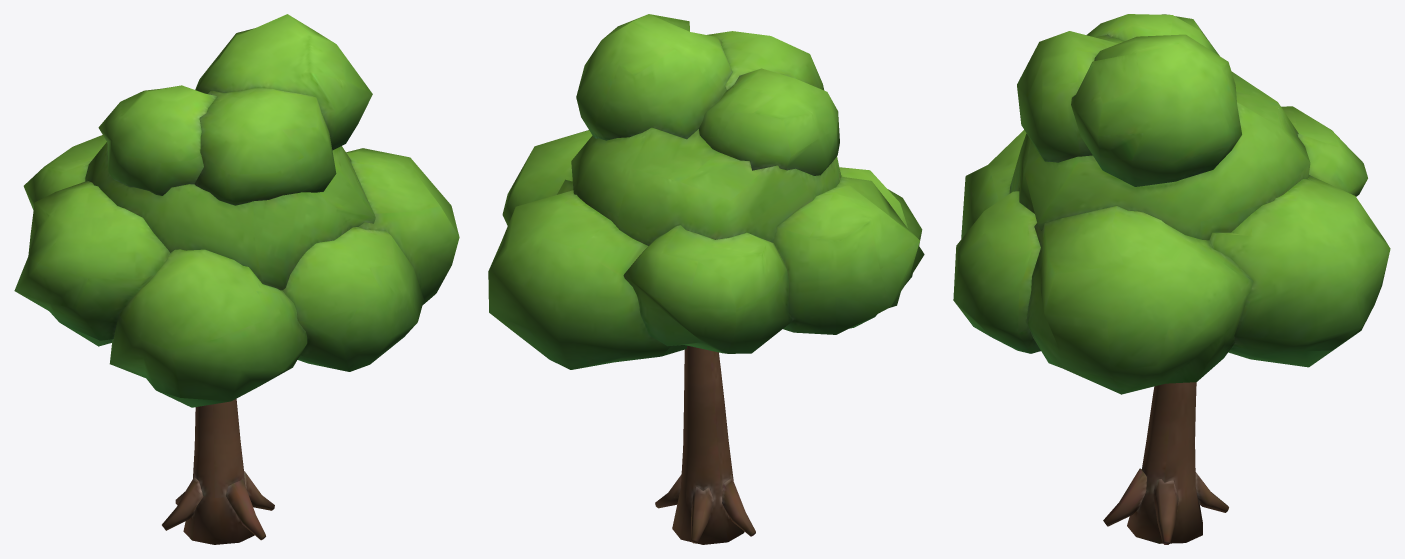
The model's file is oak.glb.
The picture shows the model from 3 angles, left to right: view 1: azimuth 30°, elevation 25°; view 2: azimuth 150°, elevation 25°; view 3: azimuth 270°, elevation 25°; orthographic projection. The views are drawn at different scales.
Visible parts, largest first — view 1: oak; view 2: oak; view 3: oak.
Part boxes in pixels (x1,y1,x2,y2): oak: (14, 14, 459, 544); oak: (488, 14, 924, 544); oak: (953, 14, 1390, 544).
Bounding box in the file's own units: 6.01 × 7.02 × 5.33.
2 materials, 2 textured.
